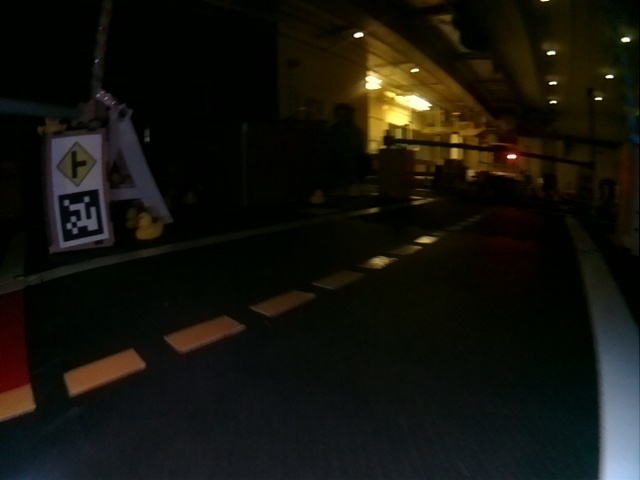Duckie: (134, 214, 162, 240), (126, 208, 139, 229), (310, 190, 326, 204), (184, 192, 197, 204)
Intersection sign: (53, 138, 103, 185)
QR code: (55, 188, 105, 245)
Traffic light: (506, 152, 518, 162)
